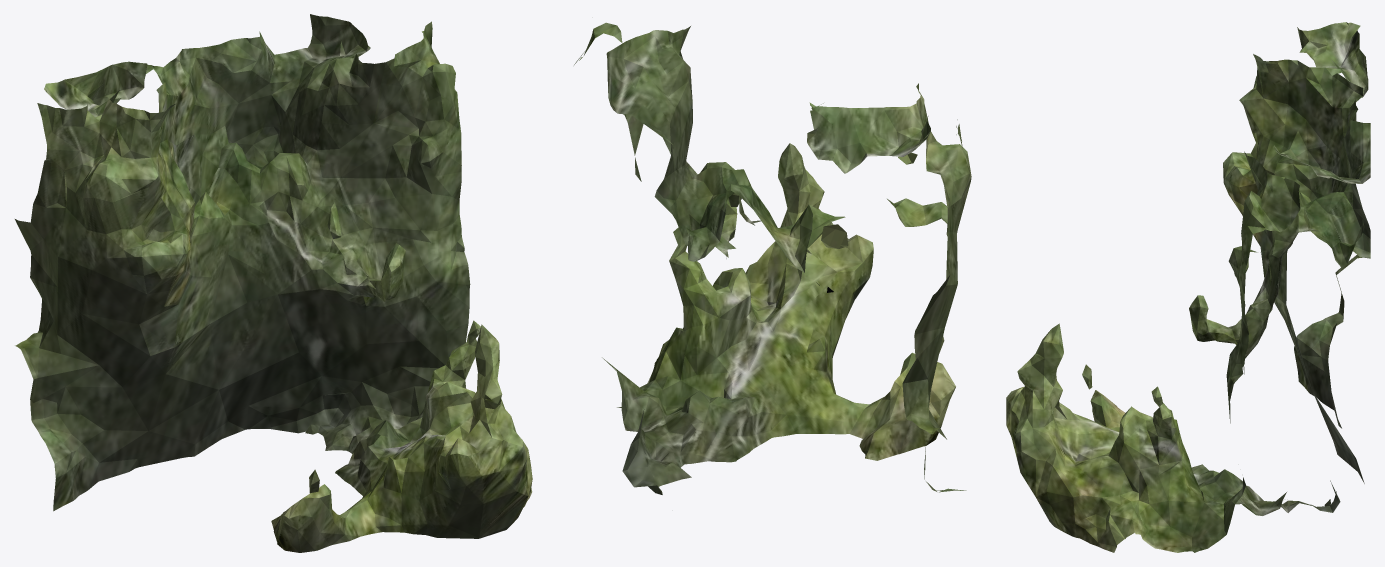
3 renders of one model, left to right at view 1: azimuth 30°, elevation 25°; view 2: azimuth 150°, elevation 25°; view 3: azimuth 270°, elevation 25°, orthographic. The views are drawn at different scales.
Size of the model in its own units: 2.95 by 2.95 by 2.65.
Materials: 5 (5 with a texture image).
